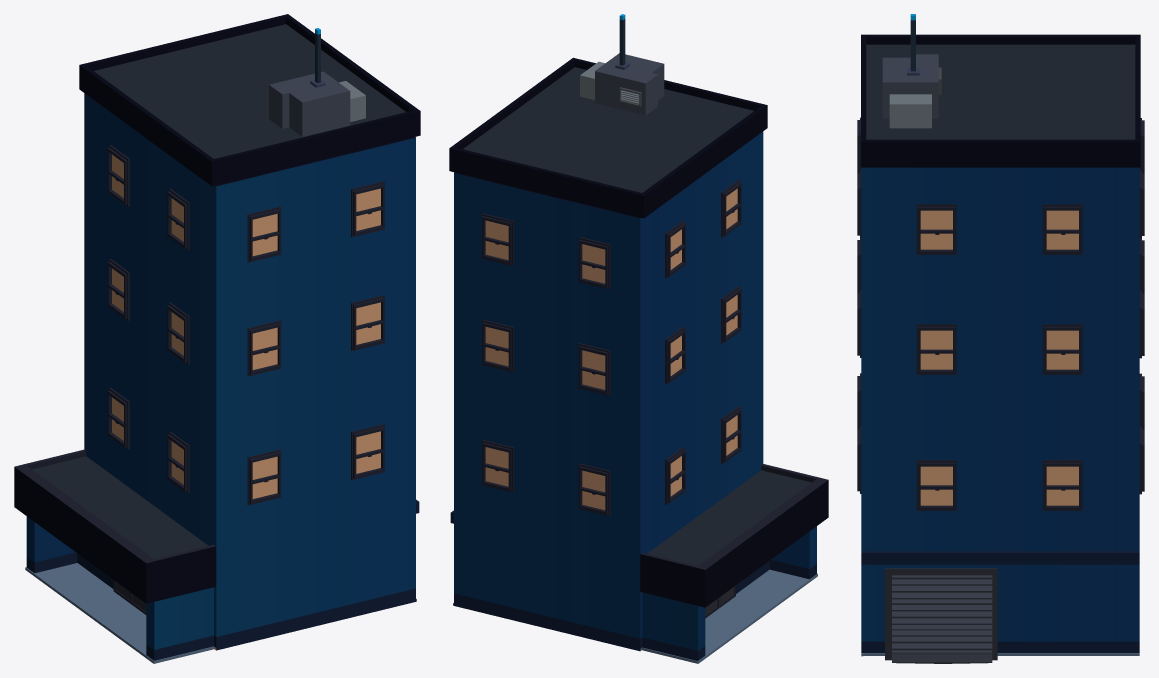
Rendered from Building_Tall01.fbx.
The picture shows the model from 3 angles, left to right: view 1: azimuth 30°, elevation 25°; view 2: azimuth 150°, elevation 25°; view 3: azimuth 270°, elevation 25°; orthographic projection. The views are drawn at different scales.
Parts seen in each view (by area): view 1: Cube.411; view 2: Cube.411; view 3: Cube.411.
Boxes of the visible parts, x1=… form: Cube.411: x1=14, y1=14, x2=420, y2=663; Cube.411: x1=449, y1=14, x2=828, y2=663; Cube.411: x1=857, y1=14, x2=1144, y2=663.
Bounding box in the file's own units: 828 × 1647 × 707.
